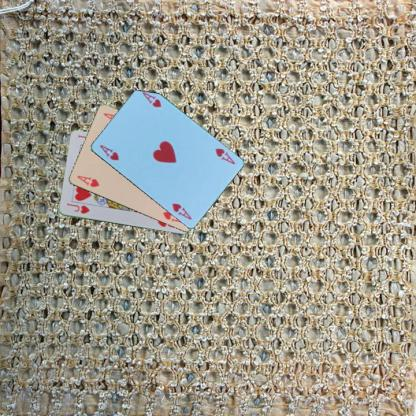Ah: (97, 142, 120, 162), (213, 146, 236, 166), (74, 173, 100, 188)
Jh: (64, 200, 91, 216)
